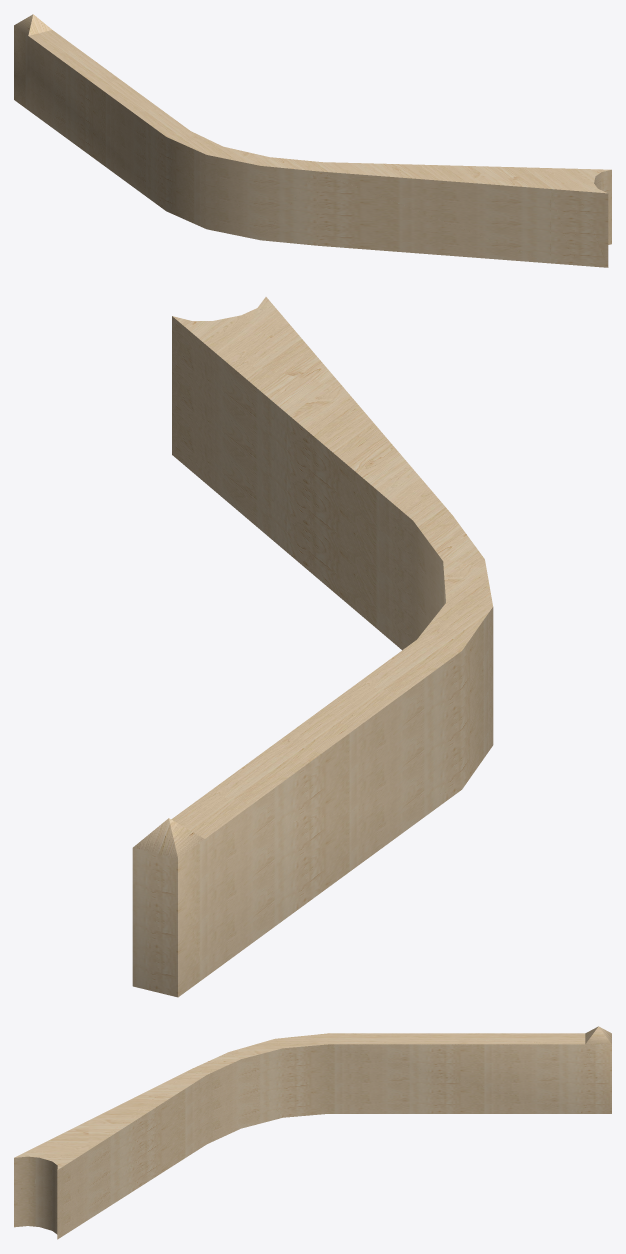
File: Ball Ramp.FBX
3 renders of one model, top to bottom at view 1: azimuth 30°, elevation 25°; view 2: azimuth 150°, elevation 25°; view 3: azimuth 270°, elevation 25°, orthographic. The views are drawn at different scales.
Visible parts, largest first — view 1: Ball Ramp (Left); view 2: Ball Ramp (Left); view 3: Ball Ramp (Left).
Part boxes in pixels (left/top/right/bottom): Ball Ramp (Left): left=14, top=14, right=611, bottom=267; Ball Ramp (Left): left=132, top=297, right=493, bottom=997; Ball Ramp (Left): left=14, top=1026, right=611, bottom=1239.
Bounding box in the file's own units: 0.1141 × 0.0319 × 0.2108.
